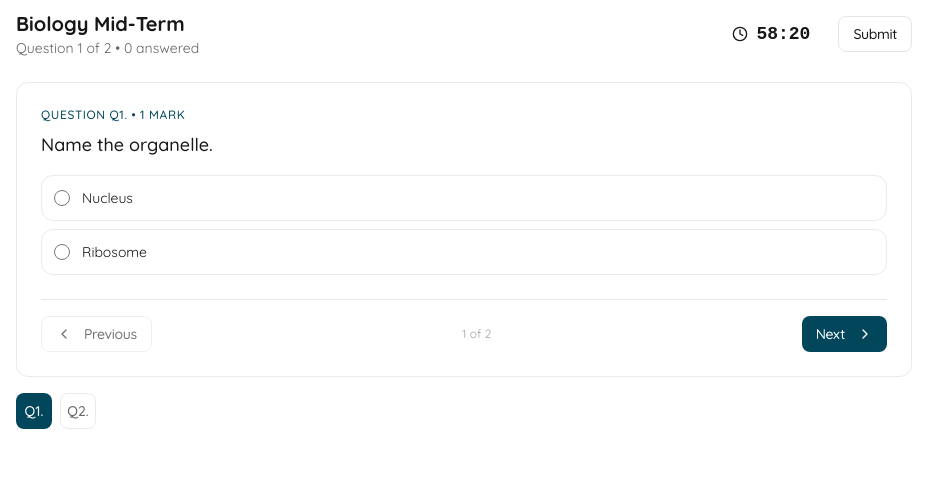
Scenario: AssessmentTake over the network › keeps the work and reports the problem when submission fails
The width and height of the screenshot is (929, 478).
Expected: the text "Name the organelle." is shown, x1=41 y1=133 x2=213 y2=156
Click the text "Nucleus" at (107, 198), box x1=82 y1=188 x2=133 y2=208
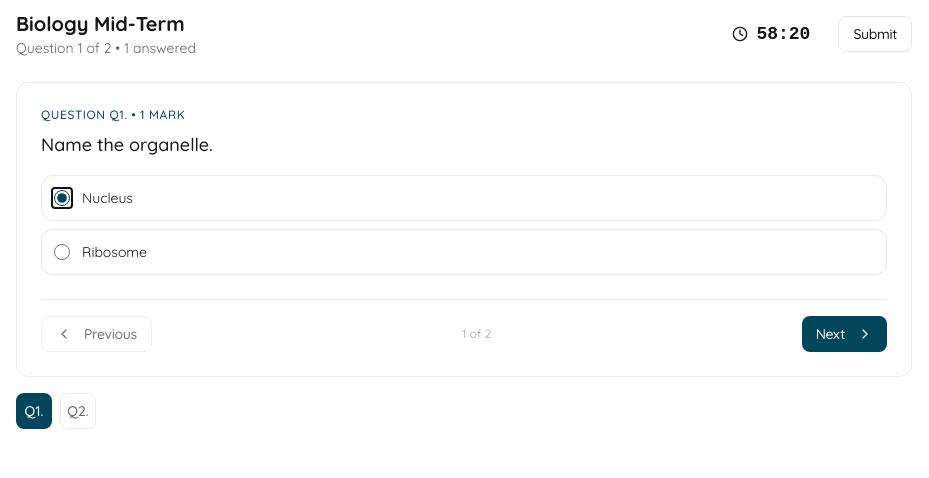
Click the button "Submit" at (875, 34), box x1=838 y1=16 x2=912 y2=52
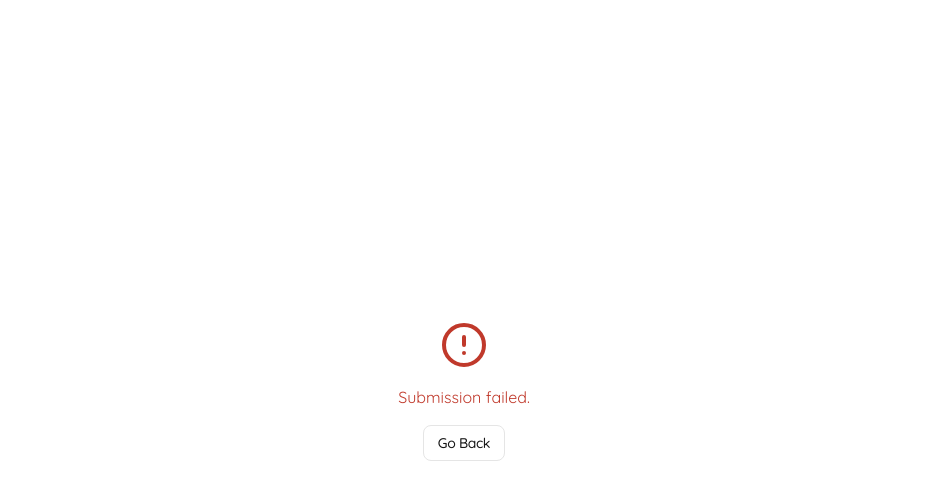
Now the text "Submission failed." is shown, box x1=398 y1=385 x2=530 y2=409
